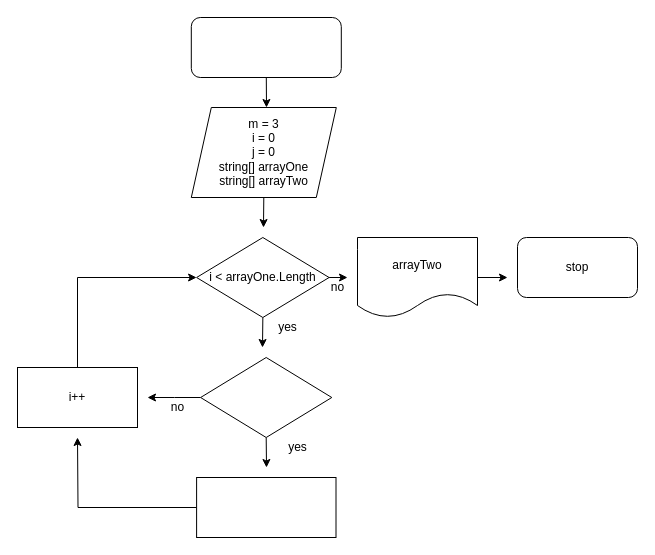
The diagram is 655 pixels wide and 555 high, and some of its shapes have lost their labels. The centre of each missing label's shape, as x and y in pixels:
"arr[i] <= m" belongs at (266,397).
"arrayTwo = arrayOne[i] j++" belongs at (266,507).
"start" belongs at (265,47).
